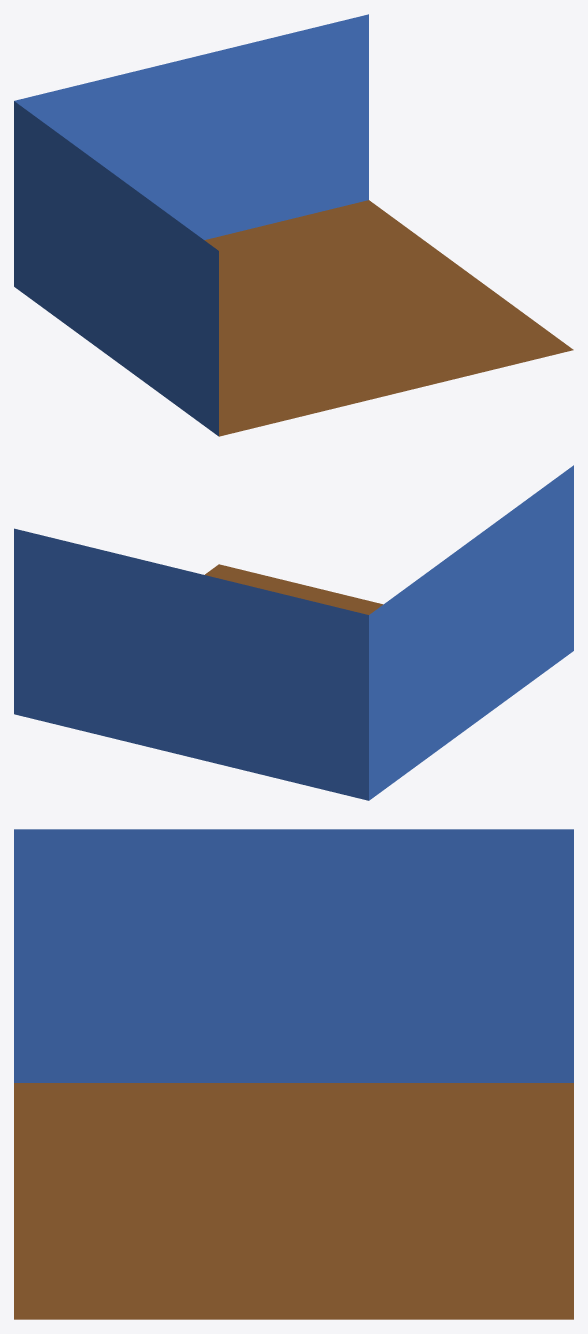
Rendered from room05.glb.
3 renders of one model, top to bottom at view 1: azimuth 30°, elevation 25°; view 2: azimuth 150°, elevation 25°; view 3: azimuth 270°, elevation 25°, orthographic. The views are drawn at different scales.
Parts seen in each view (by area): view 1: Cube; view 2: Cube; view 3: Cube.
Part boxes in pixels (box(x1,y1,x2,y2)): Cube: box(14, 14, 573, 436); Cube: box(14, 465, 573, 800); Cube: box(14, 829, 573, 1319).
Size of the model in its own units: 8 by 4 by 8.
